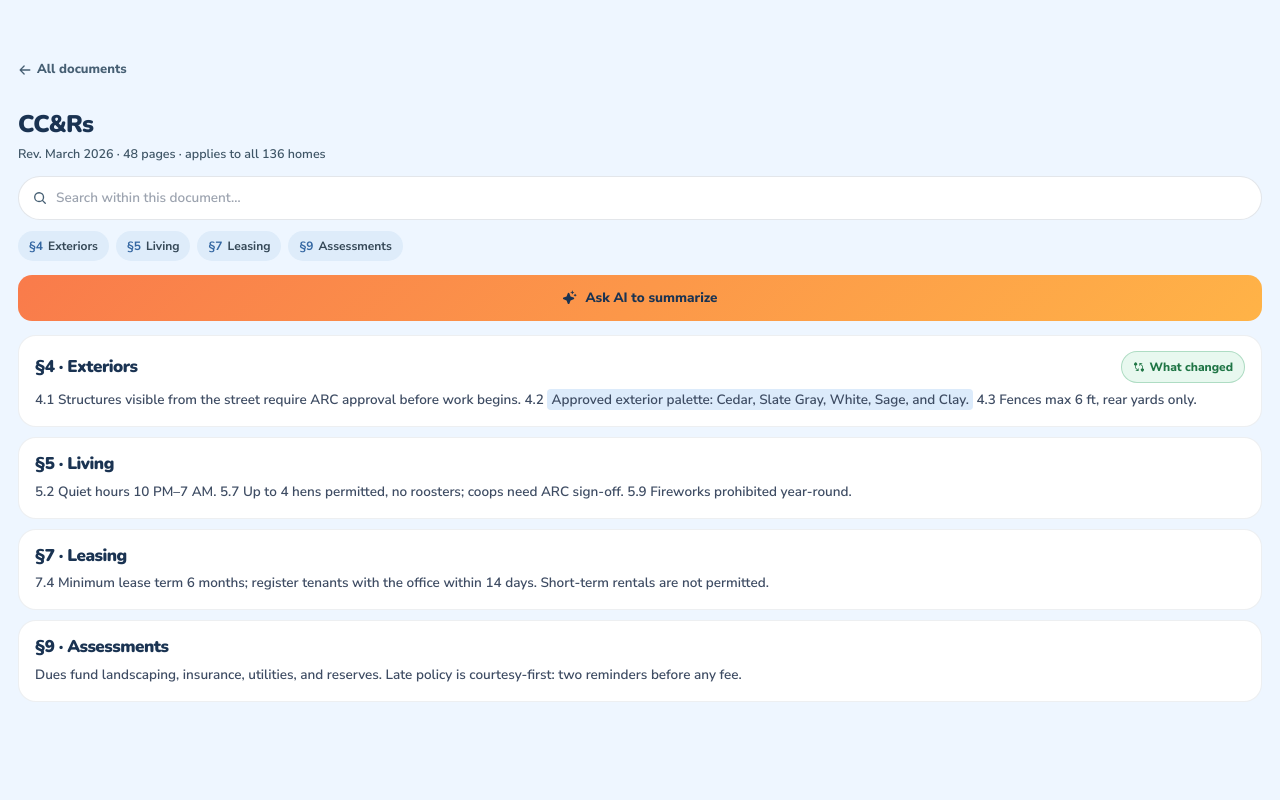
Test: doc search filters sections and diff toggles
This screenshot has width=1280, height=800.
Type "quiet" into the field with placeholder "Search within this document…" at x=652, y=198, box [56,188,1247,208]
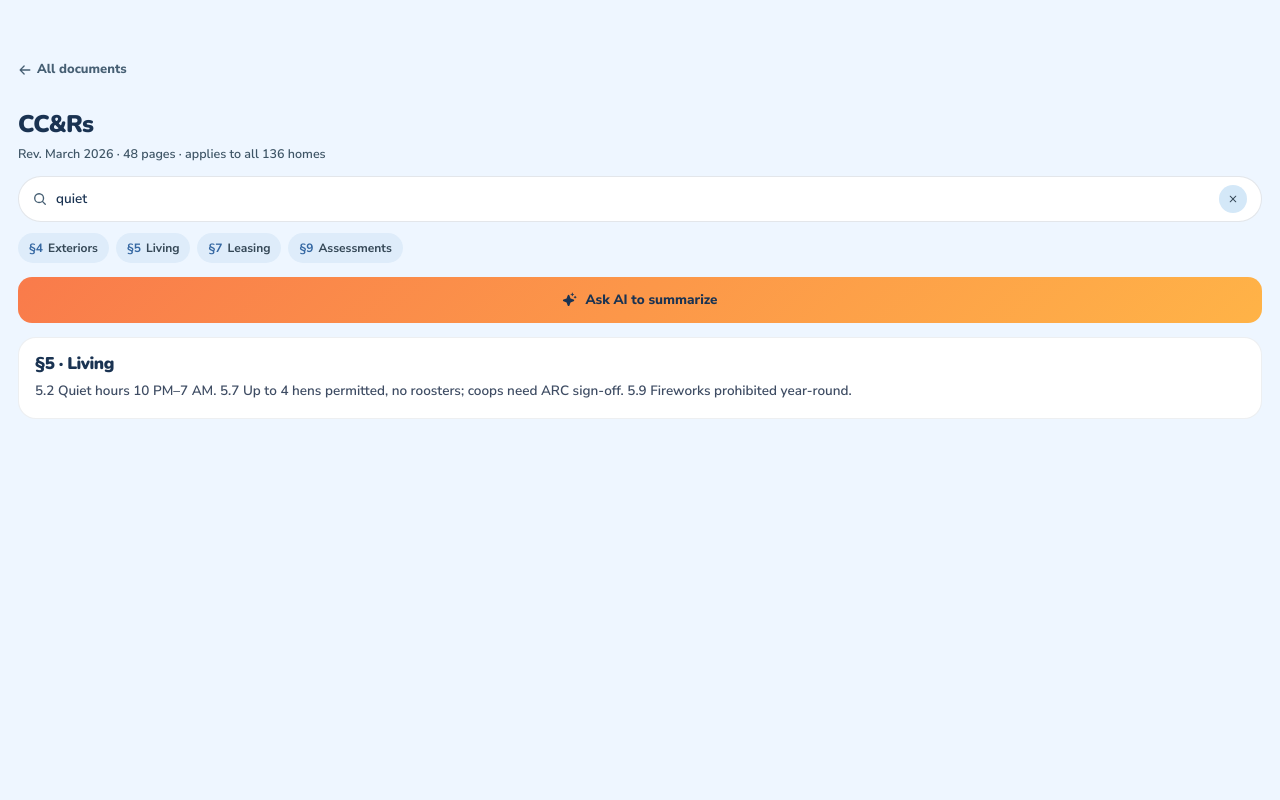
expect the heading "§5 · Living" is shown: met, box [35,353,114,374]
expect the heading "§7 · Leasing" is gone: met
